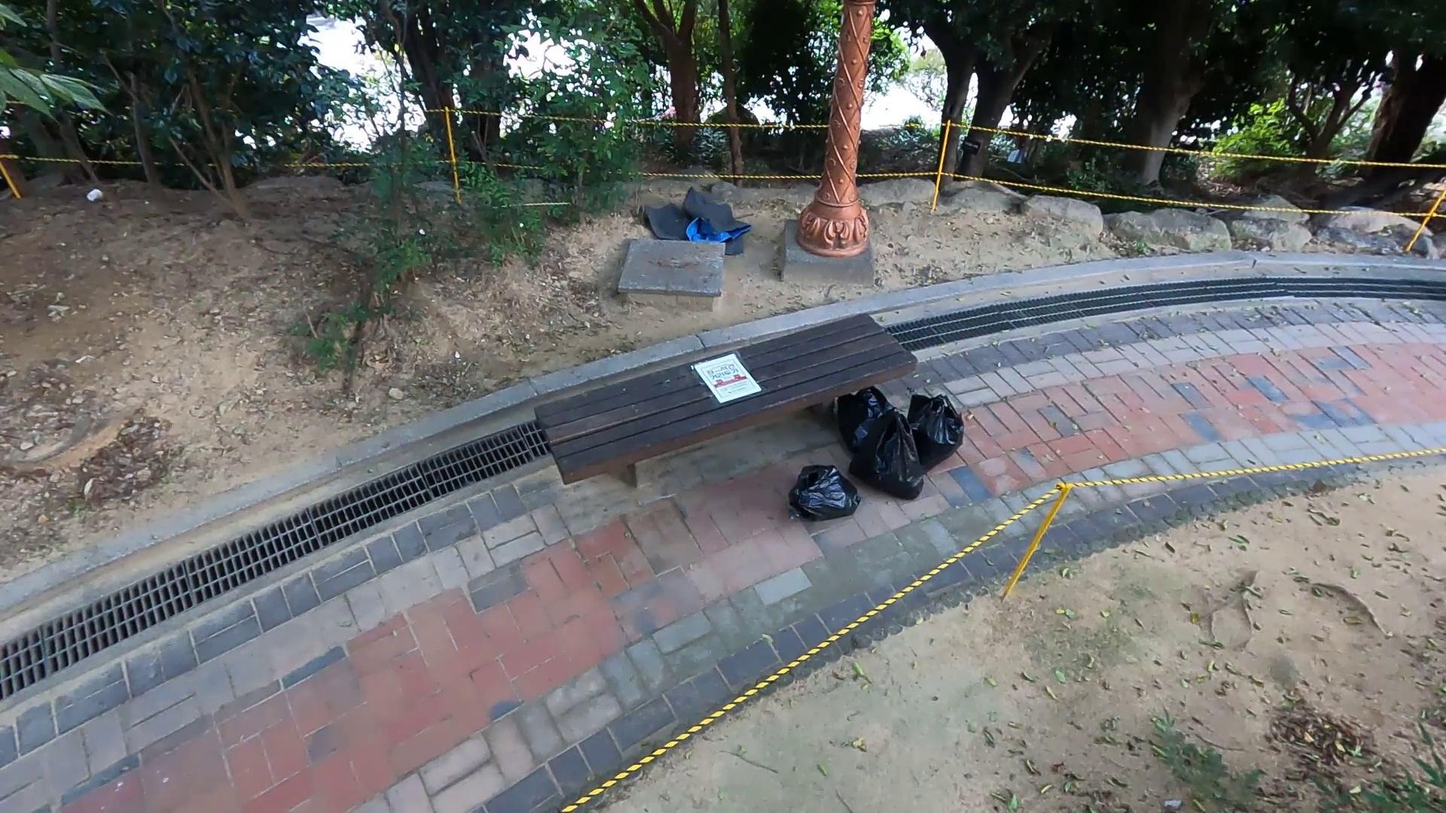trash: (850, 409, 926, 502), (902, 389, 971, 470), (829, 382, 906, 452), (781, 457, 861, 521)
